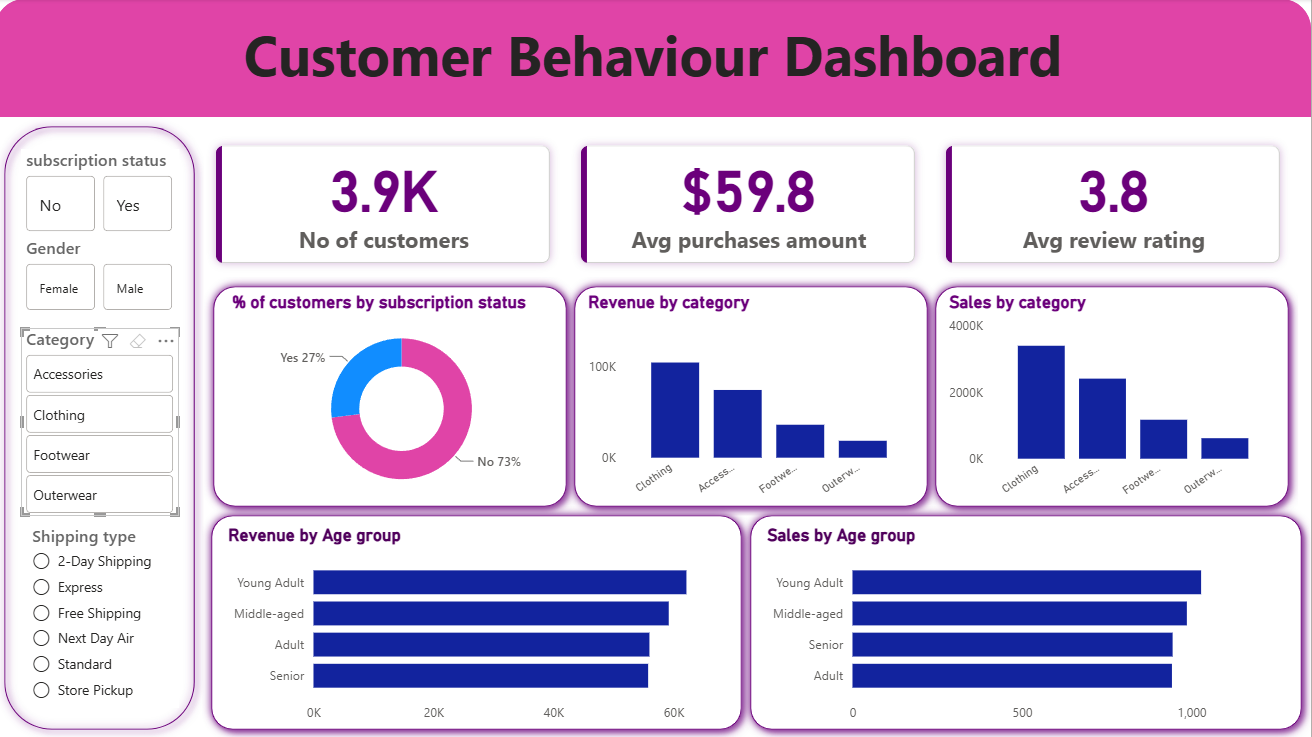

The page's visual inventory and layout, read from the dashboard file:
{"tool":"powerbi","page":{"name":"Page 1","canvas":[1280,720],"ordinal":0},"visuals":[{"type":"cardVisual","fields":{"Data":["customer_behaviour.No of customers","customer_behaviour.Avg purchases amount","customer_behaviour.avg review rating"]},"box":[186.7,114.8,1093.3,170.2],"z":0},{"type":"shape","box":[0,0,1280,114.8],"z":1000},{"type":"textbox","box":[0,11.7,1280,103.1],"z":2000},{"type":"shape","box":[203.3,270.4,361.8,232.5],"z":3000},{"type":"donutChart","title":"% of customers by subscription status ","fields":{"Y":["Count(customer_behaviour.customer_id)"],"Category":["customer_behaviour.subscription_status"]},"box":[225.7,285,339.5,208.1],"z":4000},{"type":"shape","box":[554.4,270.4,361.8,232.5],"z":5000},{"type":"shape","box":[905.5,270.4,361.8,232.5],"z":6000},{"type":"clusteredColumnChart","title":"Revenue by category","fields":{"Y":["Sum(customer_behaviour.purchase_amount)"],"Category":["customer_behaviour.category"]},"box":[571.9,285,326.8,208.1],"z":7000},{"type":"clusteredColumnChart","title":"Sales by category","fields":{"Category":["customer_behaviour.category"],"Y":["Sum(customer_behaviour.customer_id)"]},"box":[923,285,326.8,208.1],"z":8000},{"type":"shape","box":[0,114.8,203.3,605],"z":9000},{"type":"advancedSlicerVisual","title":"subscription status","fields":{"Values":["customer_behaviour.subscription_status"]},"box":[25.3,145.9,153.7,85.6],"z":10000},{"type":"advancedSlicerVisual","title":"Gender","fields":{"Values":["customer_behaviour.gender"]},"box":[25.3,231.5,153.7,76.8],"z":11000},{"type":"advancedSlicerVisual","title":"Category","fields":{"Values":["customer_behaviour.category"]},"box":[25.3,320,153.7,182.9],"z":12000},{"type":"listSlicer","title":"Shipping type","fields":{"Values":["customer_behaviour.shipping_type"]},"box":[31.1,511.6,147.8,178],"z":13000},{"type":"clusteredBarChart","title":"Revenue by Age group","fields":{"Y":["Sum(customer_behaviour.purchase_amount)"],"Category":["customer_behaviour.age_groups"]},"box":[214,506.7,511.6,200.4],"z":14000},{"type":"shape","box":[201.3,493.1,534,226.6],"z":15000},{"type":"shape","box":[725.6,493.1,554.4,226.6],"z":16000},{"type":"clusteredBarChart","title":"Revenue by Age group","fields":{"Y":["Sum(customer_behaviour.purchase_amount)"],"Category":["customer_behaviour.age_groups"]},"box":[221.8,511.6,511.6,200.4],"z":17000},{"type":"clusteredBarChart","title":"Sales by Age group","fields":{"Category":["customer_behaviour.age_groups"],"Y":["Count(customer_behaviour.customer_id)"]},"box":[746,511.6,503.8,200.4],"z":18000}]}

Visuals, with their boxes in screenshot pixels (x1, y1, x2, y2), scaled from the page's 1280x720 canvas onto the 1312x737 screenshot:
cardVisual - customer_behaviour.No of customers x customer_behaviour.Avg purchases amount: x1=191 y1=118 x2=1311 y2=292
shape: x1=0 y1=0 x2=1311 y2=118
textbox: x1=0 y1=12 x2=1311 y2=118
shape: x1=208 y1=277 x2=579 y2=515
"% of customers by subscription status " donutChart: x1=231 y1=292 x2=579 y2=505
shape: x1=568 y1=277 x2=939 y2=515
shape: x1=928 y1=277 x2=1299 y2=515
"Revenue by category" clusteredColumnChart: x1=586 y1=292 x2=921 y2=505
"Sales by category" clusteredColumnChart: x1=946 y1=292 x2=1281 y2=505
shape: x1=0 y1=118 x2=208 y2=736
"subscription status" advancedSlicerVisual: x1=26 y1=149 x2=183 y2=237
"Gender" advancedSlicerVisual: x1=26 y1=237 x2=183 y2=316
"Category" advancedSlicerVisual: x1=26 y1=328 x2=183 y2=515
"Shipping type" listSlicer: x1=32 y1=524 x2=183 y2=706
"Revenue by Age group" clusteredBarChart: x1=219 y1=519 x2=744 y2=724
shape: x1=206 y1=505 x2=754 y2=736
shape: x1=744 y1=505 x2=1311 y2=736
"Revenue by Age group" clusteredBarChart: x1=227 y1=524 x2=752 y2=729
"Sales by Age group" clusteredBarChart: x1=765 y1=524 x2=1281 y2=729
